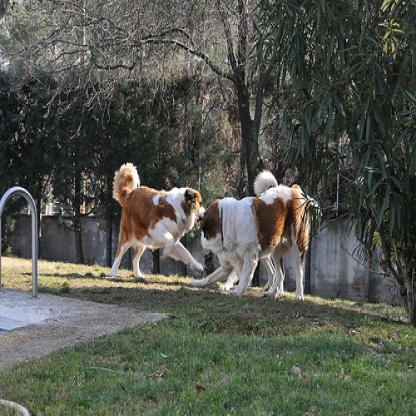dog: (200, 184, 322, 298), (191, 169, 284, 296), (110, 160, 206, 278)
